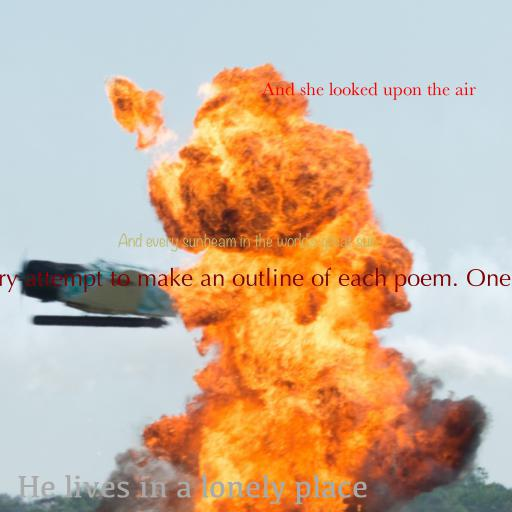Baskerville: (262, 82, 476, 100)
Kefa: (16, 475, 368, 505)
Noteworthy: (117, 232, 377, 252)
Optima: (0, 267, 512, 293)
